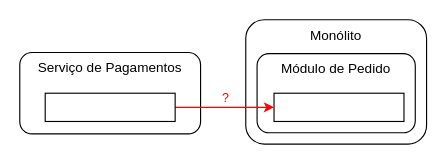
The diagram is 446 pixels wide and 164 high, and some of its shapes have lost their labels. The centre of each missing label's shape, as x and y in pixels:
"Pagamento" belongs at [109,106].
"Pedido" belongs at [338,106].
